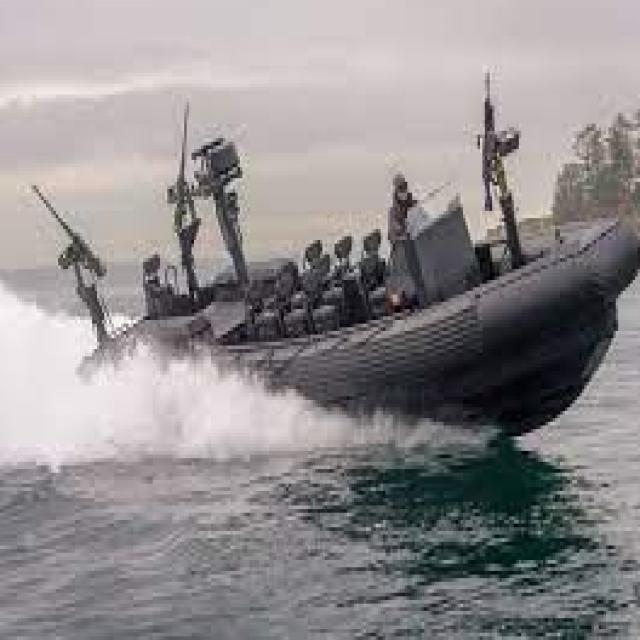houseboat: (48, 112, 636, 436)
